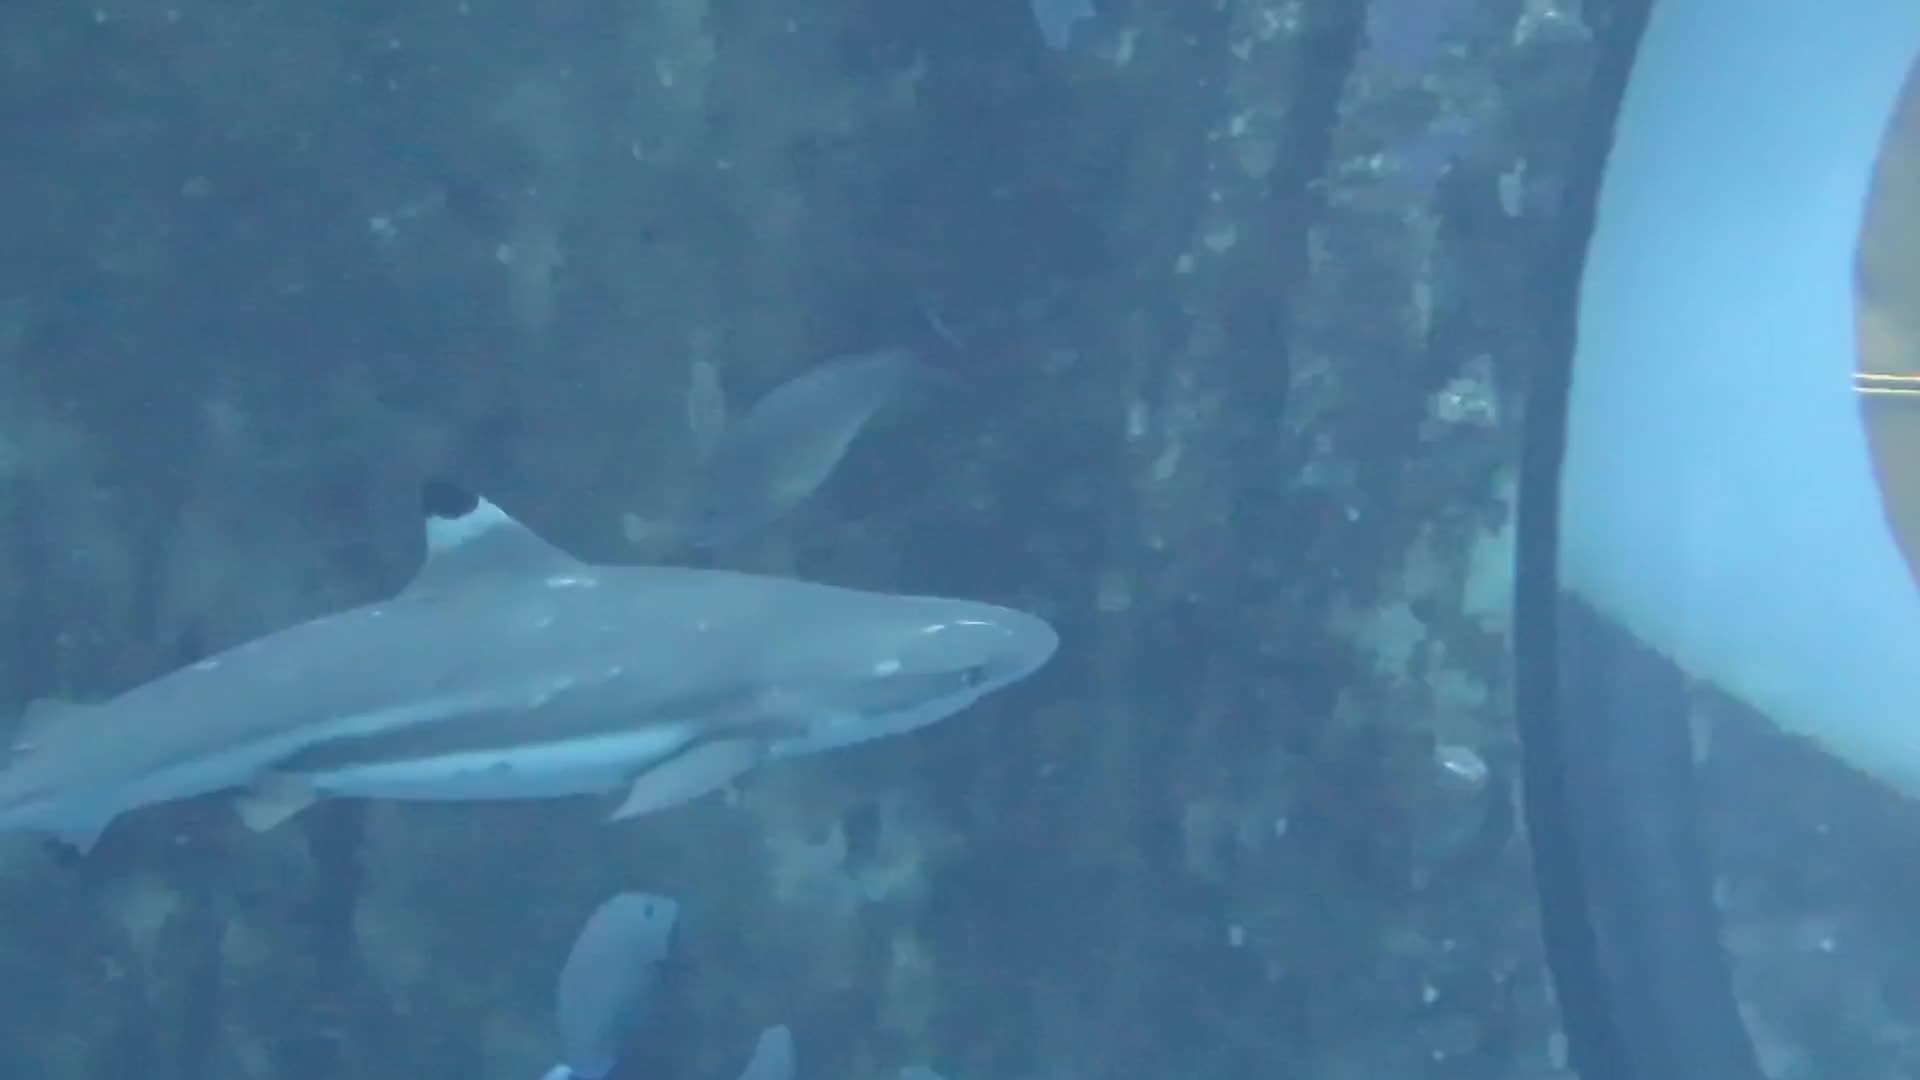Carcharhinus melanopterus: (1, 464, 1079, 903)
